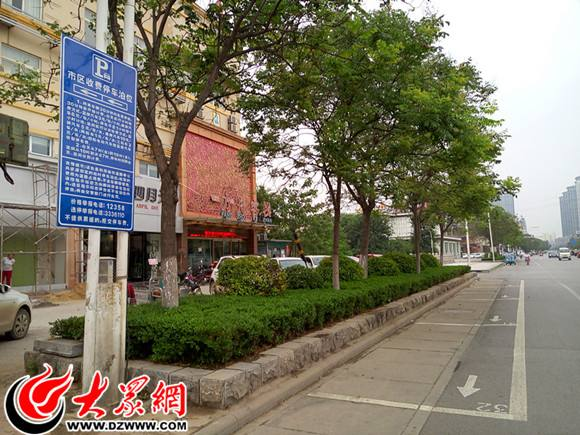slot_nocar: (299, 311, 540, 427), (406, 288, 531, 334), (454, 273, 530, 304)
